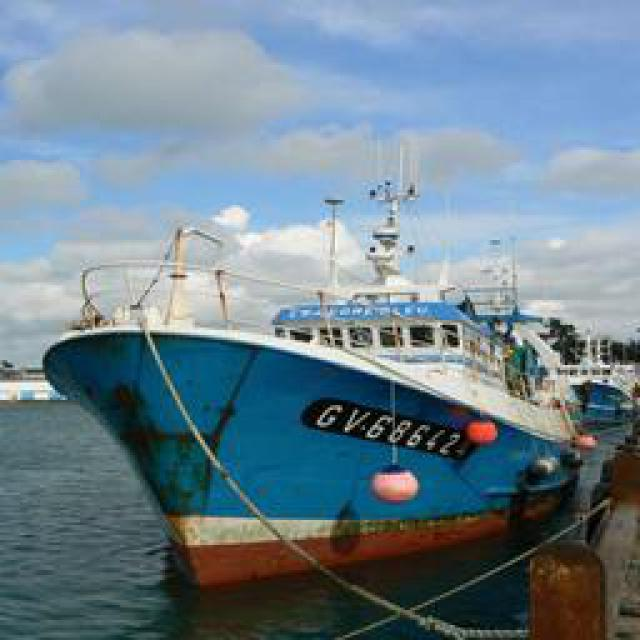Ship: (43, 238, 618, 603)
